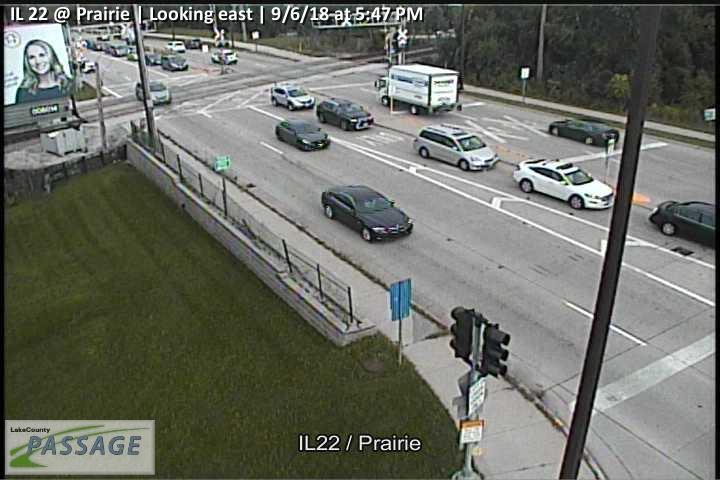SUV: (411, 123, 500, 171), (316, 97, 375, 131), (270, 82, 315, 110), (134, 79, 172, 105), (161, 53, 189, 72), (210, 49, 239, 65)
Sedan: (320, 184, 413, 242), (512, 158, 615, 209), (647, 200, 716, 242), (548, 118, 620, 146), (275, 118, 331, 151)
Truck: (374, 63, 461, 115)
